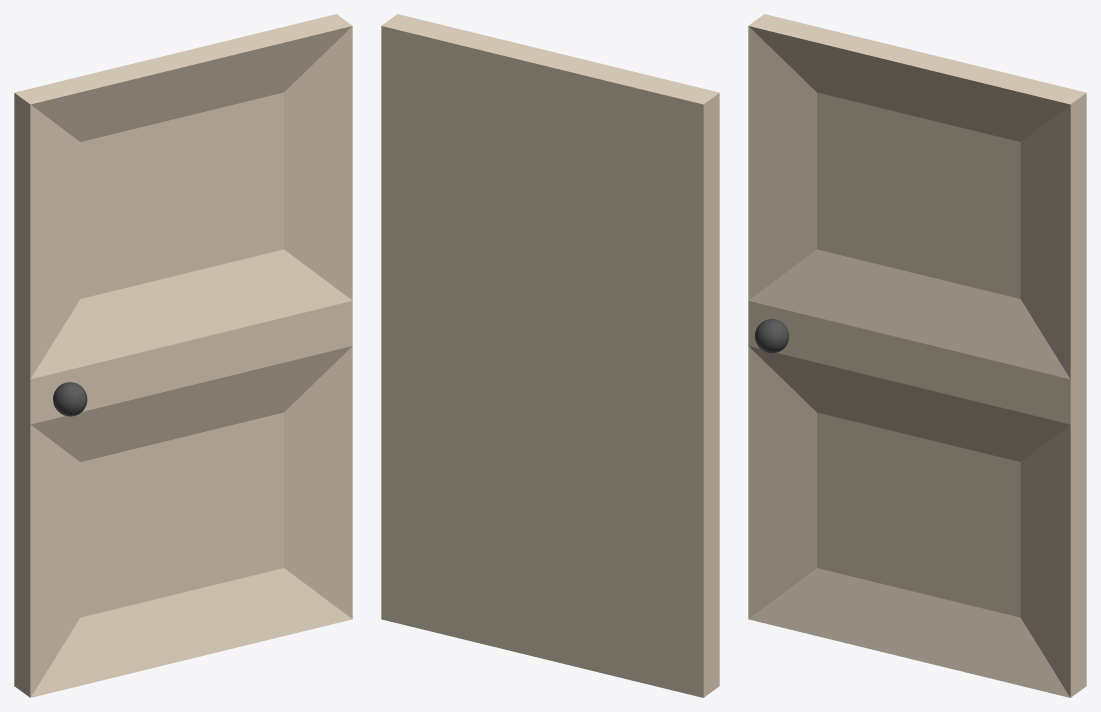
File: door.fbx
The picture shows the model from 3 angles, left to right: view 1: azimuth 30°, elevation 25°; view 2: azimuth 150°, elevation 25°; view 3: azimuth 330°, elevation 25°; orthographic projection.
Visible parts, largest first — view 1: Cube; view 2: Cube; view 3: Cube.
Part boxes in pixels (x1,y1,x2,y2): Cube: (14,14,352,697); Cube: (381,14,719,697); Cube: (748,14,1086,697).
Bounding box in the file's own units: 2288 × 4027 × 404.
